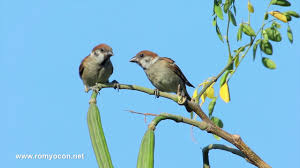home_sparrow: (123, 42, 205, 112), (73, 38, 118, 102)
